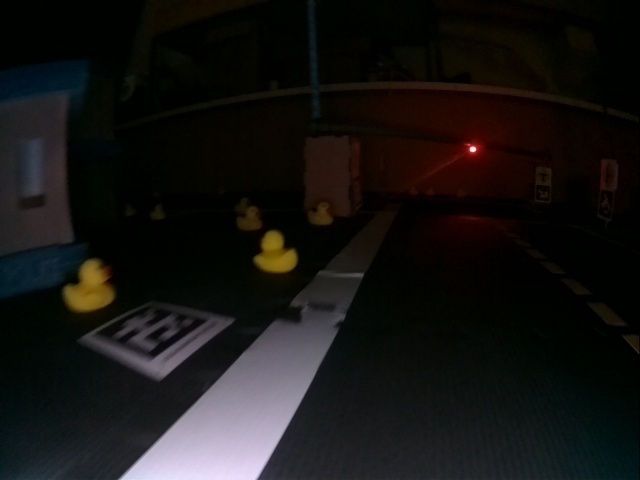Duckie: (68, 259, 114, 311), (255, 232, 297, 272), (308, 203, 333, 225), (237, 209, 260, 231), (150, 204, 165, 220), (236, 198, 250, 214), (124, 204, 134, 216), (410, 187, 418, 196), (426, 187, 434, 196), (457, 189, 466, 197)
Intersection sign: (601, 162, 617, 187), (537, 167, 551, 184)
QR code: (81, 302, 229, 375), (598, 193, 614, 217), (536, 186, 550, 201)
Traffic light: (466, 142, 474, 152)
